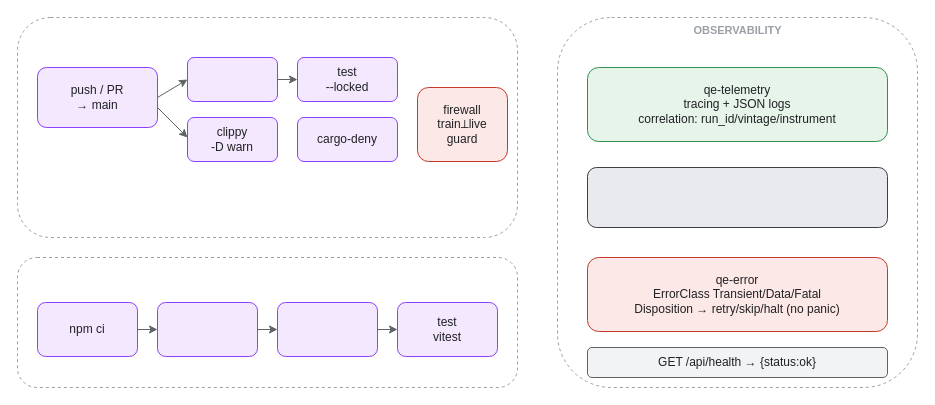
Image size: 935x405. Some labels were removed from this diagram. The shapes that lost their labels are listed below. From the top down, each one's box as (x1, y1, x2, y2) in pixels, then its label:
(186, 56, 278, 102): fmt
(16, 16, 518, 238): GITHUB ACTIONS — CI (RUST) CI.YML
(586, 166, 888, 228): HOT_PATH_TARGET hot-path emissions short-circuit
(156, 302, 258, 356): lint
(16, 256, 518, 388): GITHUB ACTIONS — FRONTEND.YML (WEB/**)
(276, 302, 378, 356): build
